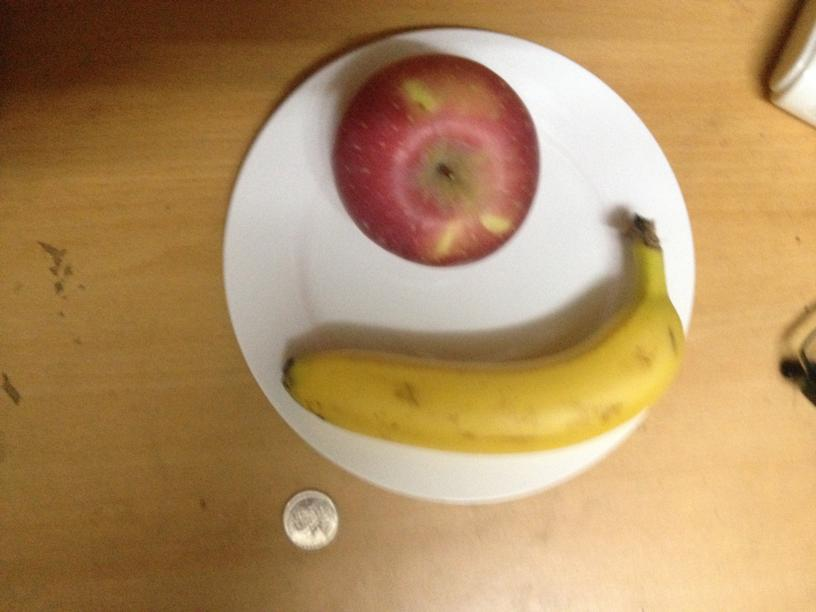apple: (343, 62, 538, 268)
banana: (289, 264, 686, 452)
coin: (283, 490, 340, 550)
